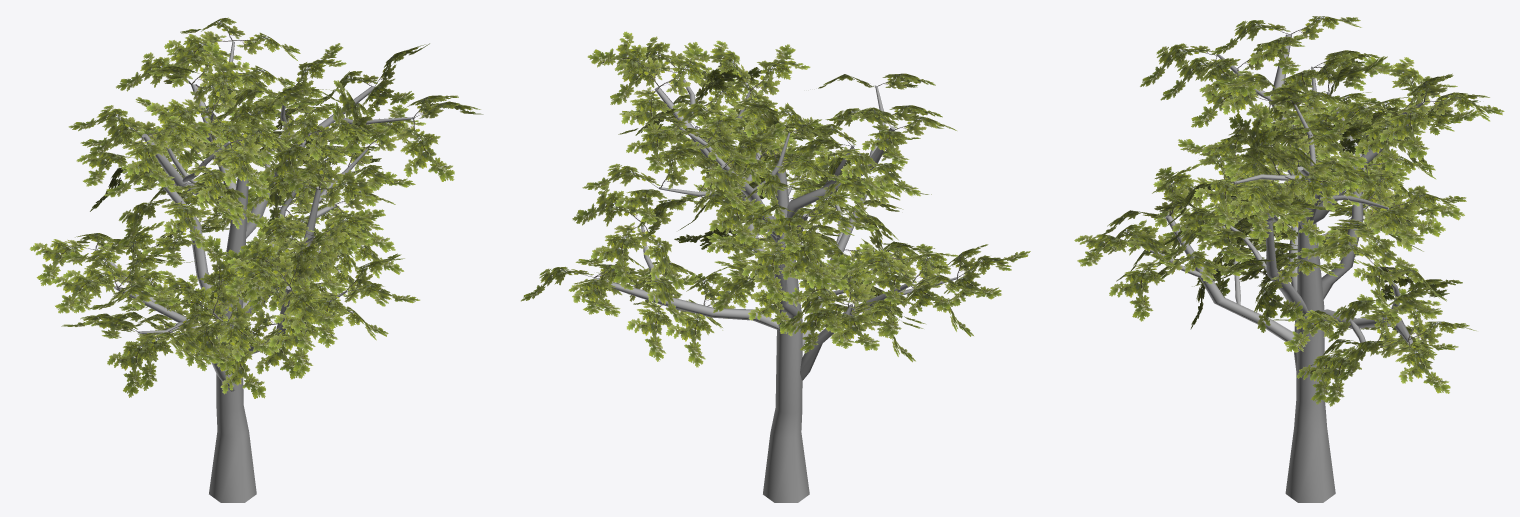
The model's file is Carvalho G.fbx.
The picture shows the model from 3 angles, left to right: view 1: azimuth 30°, elevation 25°; view 2: azimuth 150°, elevation 25°; view 3: azimuth 270°, elevation 25°; orthographic projection. The views are drawn at different scales.
Visible parts, largest first — view 1: Folhas1, Madeira; view 2: Folhas1, Madeira; view 3: Folhas1, Madeira.
Boxes of the visible parts, x1,y1,x2,y2 form: Folhas1: [29, 17, 483, 398]; Madeira: [95, 41, 414, 502]; Folhas1: [521, 31, 1030, 367]; Madeira: [594, 74, 957, 502]; Folhas1: [1074, 16, 1504, 406]; Madeira: [1150, 34, 1424, 502].
Size of the model in its own units: 894 by 882 by 792.
Materials: 2 (1 with a texture image).
